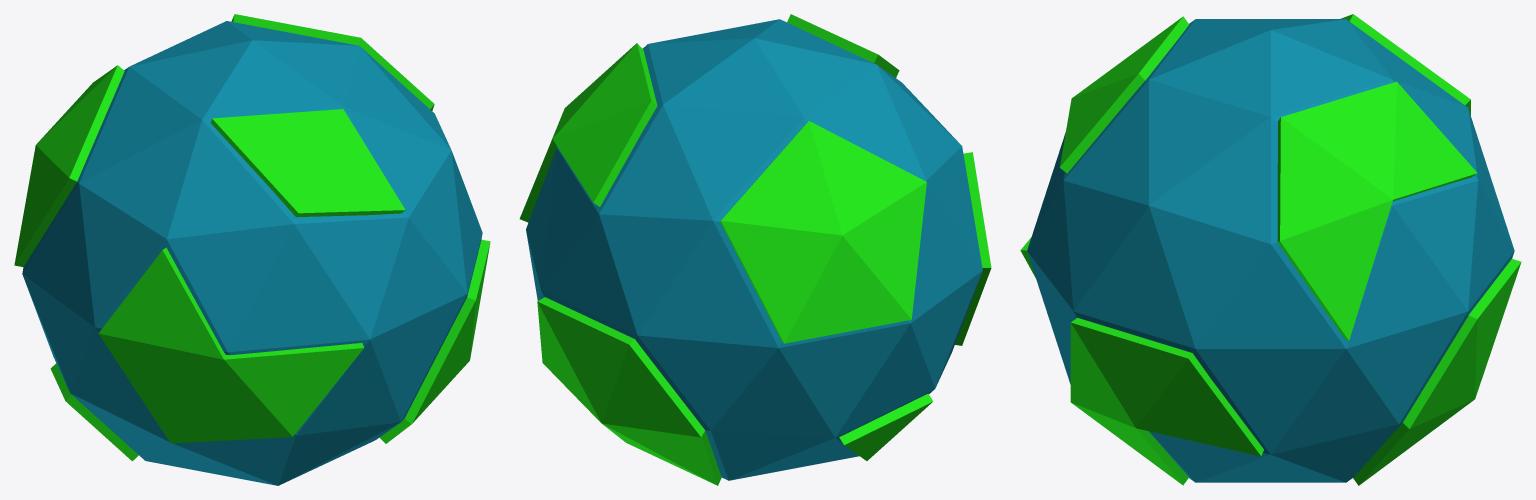
Rendered from Planet2.fbx.
3 views of the same model, side by side, from view 1: azimuth 30°, elevation 25°; view 2: azimuth 150°, elevation 25°; view 3: azimuth 270°, elevation 25° (orthographic). The views are drawn at different scales.
Parts seen in each view (by area): view 1: Icosphere.001, Icosphere; view 2: Icosphere.001, Icosphere; view 3: Icosphere.001, Icosphere.
Boxes of the visible parts, left/top/right/bottom form: Icosphere.001: left=22, top=21, right=482, bottom=485; Icosphere: left=14, top=14, right=490, bottom=461; Icosphere.001: left=526, top=19, right=982, bottom=480; Icosphere: left=519, top=14, right=991, bottom=485; Icosphere.001: left=1027, top=19, right=1514, bottom=482; Icosphere: left=1020, top=14, right=1521, bottom=485.
Bounding box in the file's own units: 821 × 842 × 866.
